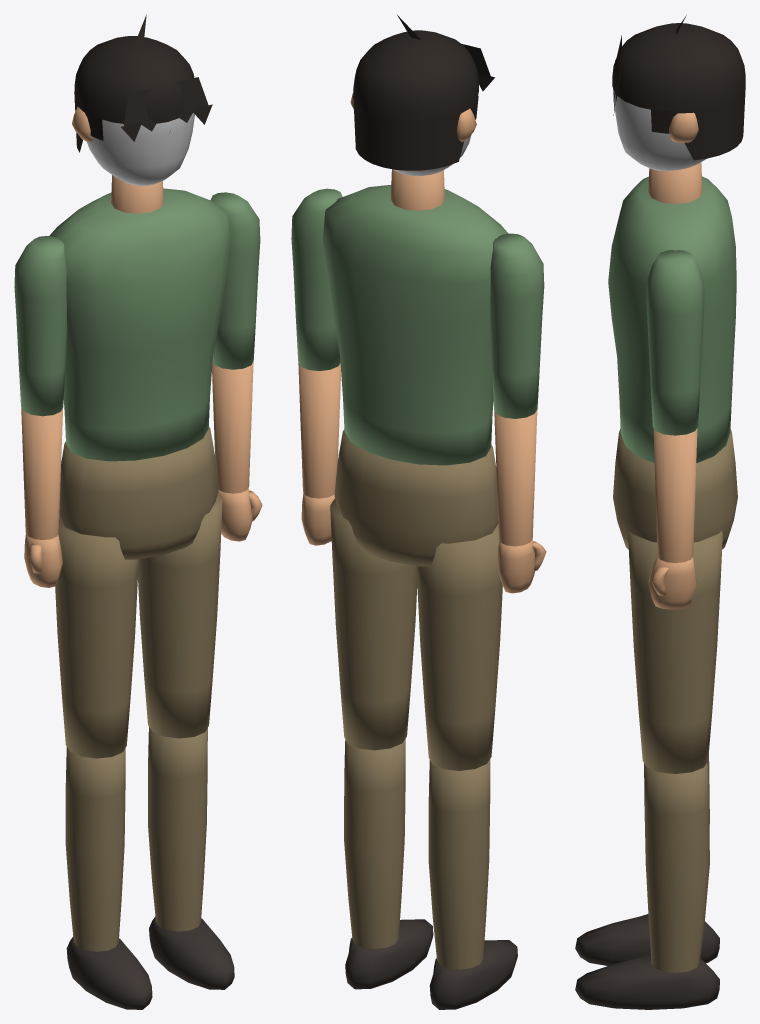
The model's file is father.glb.
3 renders of one model, left to right at view 1: azimuth 30°, elevation 25°; view 2: azimuth 150°, elevation 25°; view 3: azimuth 270°, elevation 25°, orthographic. The views are drawn at different scales.
Parts seen in each view (by area): view 1: torso, legR, head, shinR, shinL, legL, hips, armR, foreR, foreL, armL; view 2: torso, legR, head, legL, shinR, shinL, hips, armR, foreR, armL, foreL; view 3: torso, shinL, head, legL, armL, foreL, hips, shinR.
Boxes of the visible parts, left/top/right/bottom form: torso: left=49, top=175, right=231, bottom=461; legR: left=55, top=518, right=138, bottom=758; head: left=72, top=14, right=212, bottom=185; shinR: left=65, top=747, right=152, bottom=1009; shinL: left=148, top=727, right=234, bottom=989; legL: left=138, top=493, right=222, bottom=738; hips: left=59, top=426, right=218, bottom=559; armR: left=14, top=236, right=67, bottom=416; foreR: left=21, top=408, right=62, bottom=587; foreL: left=212, top=361, right=262, bottom=541; armL: left=210, top=192, right=260, bottom=369; torso: left=323, top=169, right=508, bottom=465; legR: left=416, top=524, right=502, bottom=770; head: left=350, top=15, right=494, bottom=175; legL: left=330, top=498, right=417, bottom=750; shinR: left=428, top=759, right=517, bottom=1009; shinL: left=344, top=739, right=433, bottom=989; hips: left=334, top=429, right=498, bottom=566; armR: left=489, top=233, right=544, bottom=418; foreR: left=494, top=410, right=546, bottom=593; armL: left=291, top=188, right=342, bottom=370; foreL: left=298, top=362, right=340, bottom=545; torso: left=608, top=162, right=736, bottom=463; shinL: left=575, top=763, right=719, bottom=1009; head: left=612, top=15, right=745, bottom=170; legL: left=628, top=531, right=722, bottom=773; armL: left=646, top=250, right=704, bottom=435; foreL: left=648, top=428, right=697, bottom=609; hips: left=613, top=428, right=737, bottom=549; shinR: left=575, top=754, right=719, bottom=965.
Size of the model in its own units: 0.4987 by 1.89 by 0.3009.
